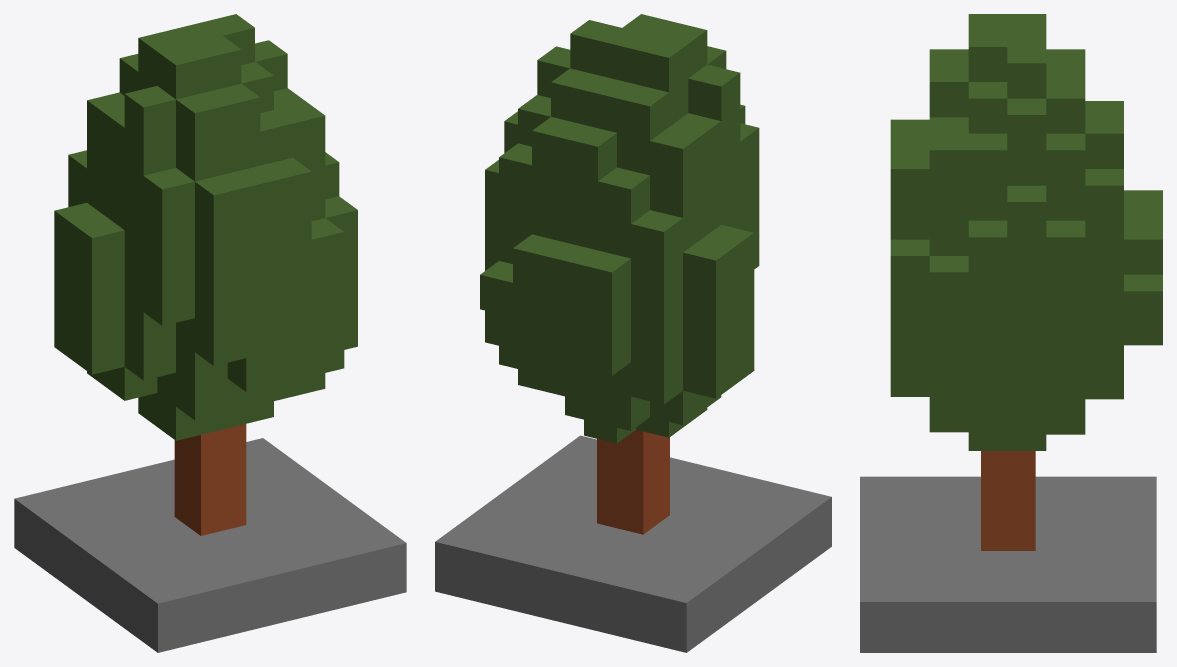
The model's file is tree1.fbx.
3 renders of one model, left to right at view 1: azimuth 30°, elevation 25°; view 2: azimuth 150°, elevation 25°; view 3: azimuth 270°, elevation 25°, orthographic. The views are drawn at different scales.
Parts seen in each view (by area): view 1: Cube; view 2: Cube; view 3: Cube.
Boxes of the visible parts, x1,y1,x2,y2 form: Cube: (14, 14, 406, 652); Cube: (435, 14, 831, 652); Cube: (860, 14, 1162, 652).
Bounding box in the file's own units: 200 × 409 × 204.
